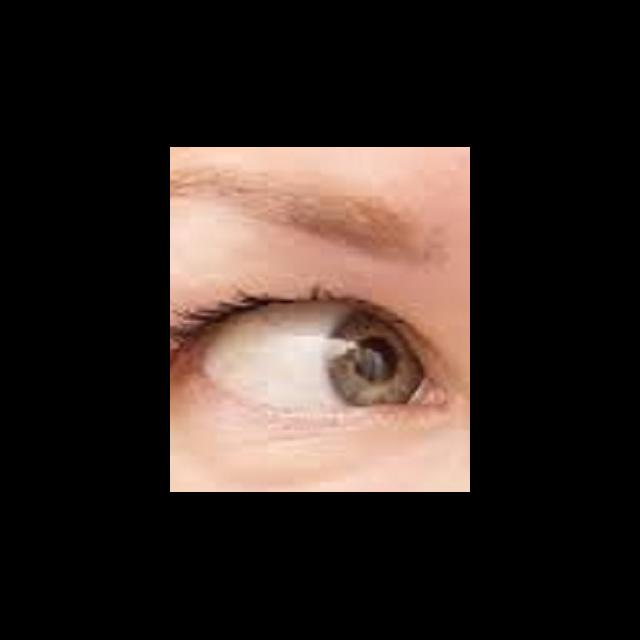eye: (199, 302, 426, 417)
iris: (325, 309, 424, 411)
